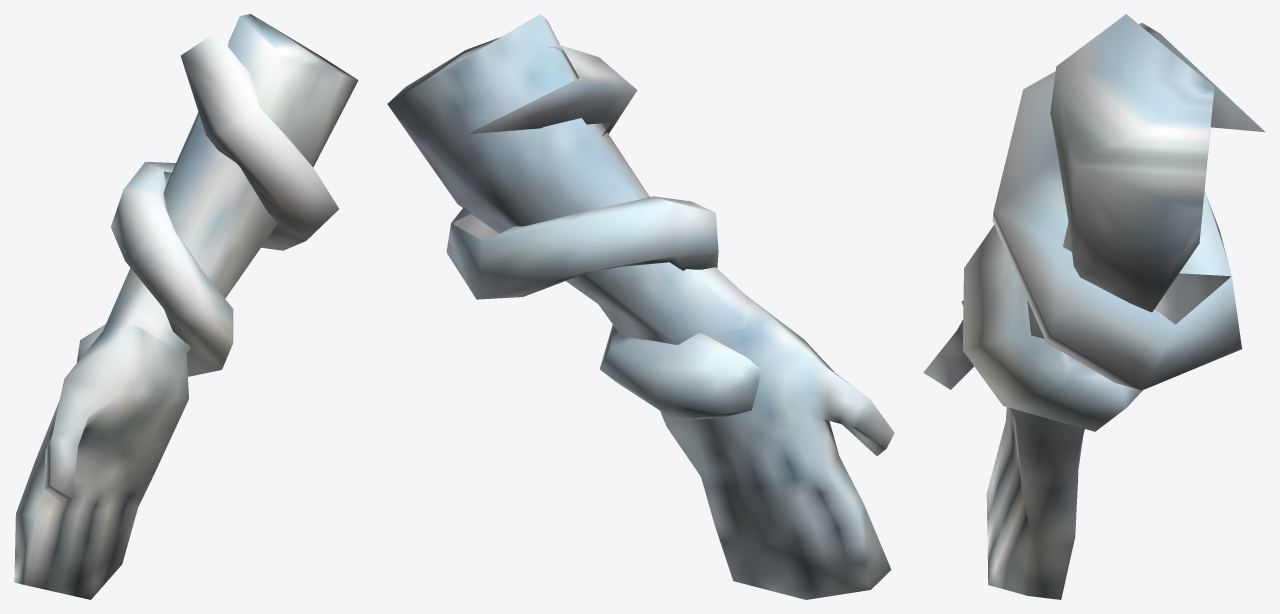
The model's file is Minos_Lower_Right_Hand.obj.
3 renders of one model, left to right at view 1: azimuth 30°, elevation 25°; view 2: azimuth 150°, elevation 25°; view 3: azimuth 270°, elevation 25°, orthographic. The views are drawn at different scales.
Parts seen in each view (by area): view 1: Minos_Lower_Right_Hand; view 2: Minos_Lower_Right_Hand; view 3: Minos_Lower_Right_Hand.
Part boxes in pixels (<box>): Minos_Lower_Right_Hand: <box>14,14,358,599</box>; Minos_Lower_Right_Hand: <box>387,14,894,599</box>; Minos_Lower_Right_Hand: <box>923,14,1265,599</box>.
Bounding box in the file's own units: 0.2048 × 0.2546 × 0.1117.
1 material, 1 textured.
